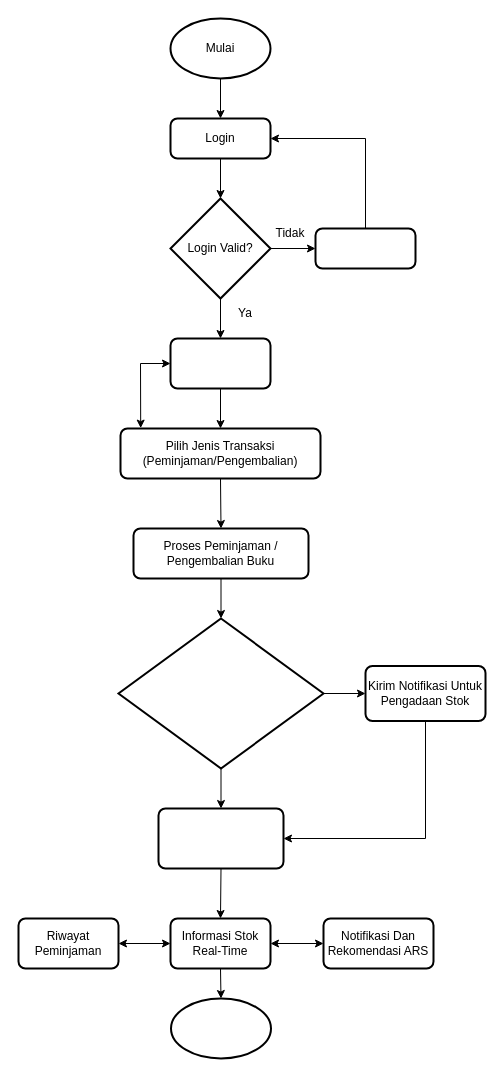
Image size: 503x1076. Some labels were removed from this diagram. Each missing label, with the centre of its shape:
Hasil Perhitungan ARS : Stok < Safety Stok: the point at 220,693
Menu Utama: the point at 220,363
Selesai: the point at 221,1028
Sistem Menampilkan Hasil Proses: the point at 220,838
Tampilkan Pesan Error: the point at 365,248
